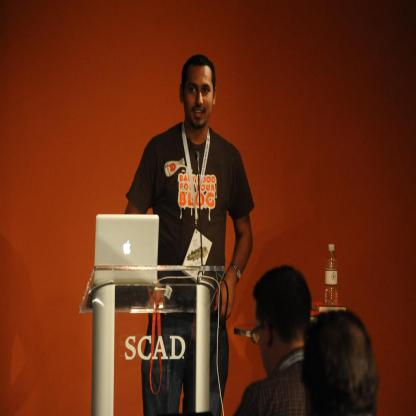board: (86, 213, 160, 309), (324, 244, 338, 303)
